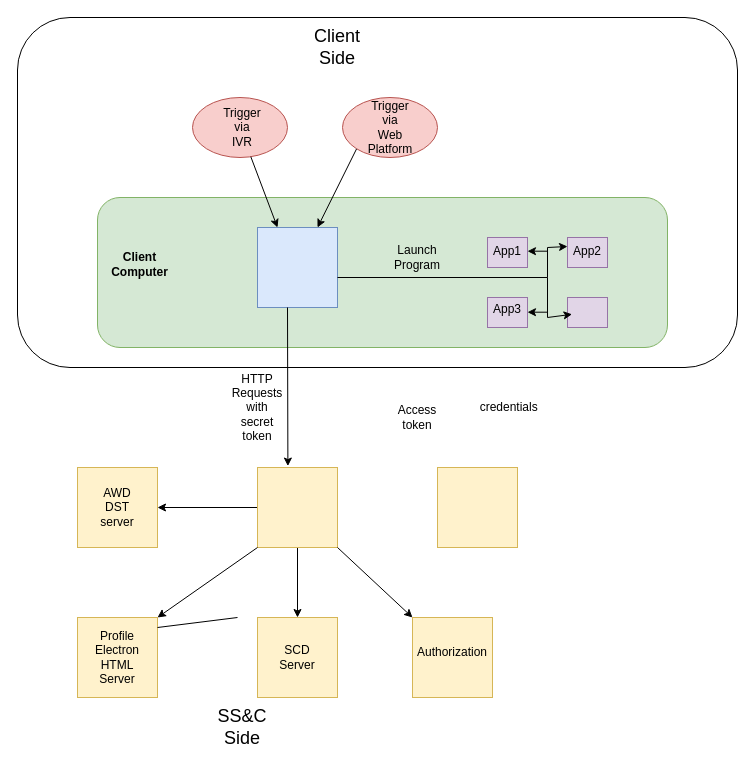
This 755x766 diagram has some shape labels left out. The centre of each missing label's shape, as x and y in pixels:
App4: (x=587, y=312)
Electron: (x=297, y=267)
Keycloak authentication: (x=477, y=507)
Proxy server: (x=297, y=507)
